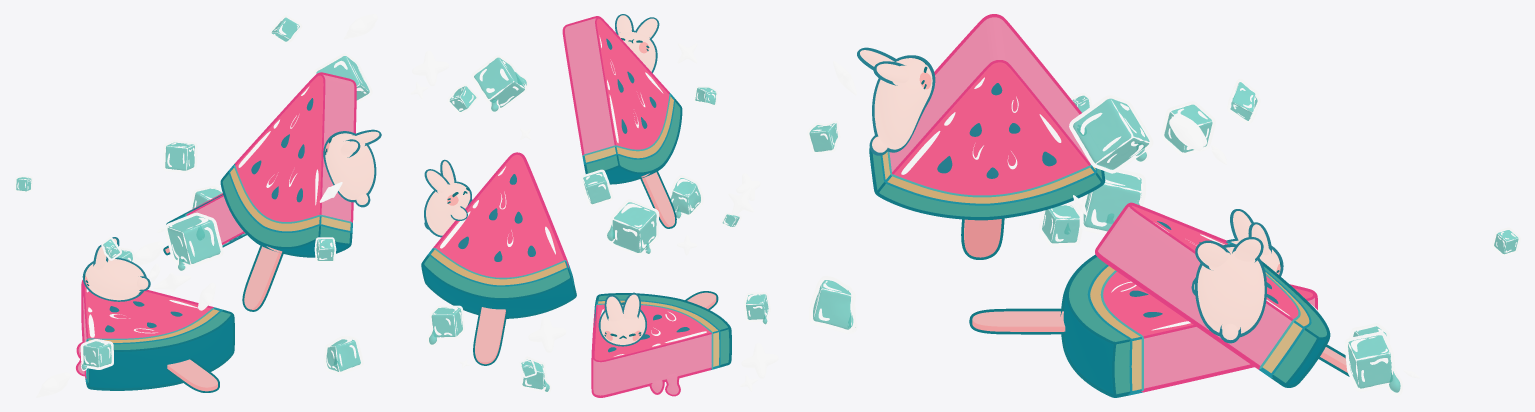
The picture shows the model from 3 angles, left to right: view 1: azimuth 30°, elevation 25°; view 2: azimuth 150°, elevation 25°; view 3: azimuth 270°, elevation 25°; orthographic projection. The views are drawn at different scales.
Parts seen in each view (by area): view 1: WatermelonWhole.002_67, WatermelonWhole_124, Bunny.002_2, Bunny_0, Icecube.001_4, Stick.002_66, Icecube.010_10, Icecube.007_8, Stick_123, Icecube.003_5, WatermelonWhole.001_95, Icecube.006_6 (+15 smaller); view 2: WatermelonWhole.001_95, WatermelonWhole.002_67, WatermelonWhole_124, Bunny.001_1, Icecube.001_4, Bunny_0, Icecube.007_8, Stick.001_94, Bunny.002_2, Icecube.011_11, Icecube.010_10, Stick.002_66 (+17 smaller); view 3: WatermelonWhole.002_67, WatermelonWhole_124, WatermelonWhole.001_95, Bunny.001_1, Bunny.002_2, Icecube.007_8, Icecube.001_4, Icecube.011_11, Stick_123, Icecube.010_10, Icecube.006_6, WatermelonWhole-OUTLINE.001_101 (+15 smaller).
Part boxes in pixels (x1,y1,x2,y2): WatermelonWhole.002_67: [222, 74, 354, 255]; WatermelonWhole_124: [83, 286, 232, 388]; Bunny.002_2: [323, 129, 381, 207]; Bunny_0: [82, 237, 150, 301]; Icecube.001_4: [164, 212, 223, 267]; Stick.002_66: [242, 245, 283, 311]; Icecube.010_10: [323, 336, 363, 375]; Icecube.007_8: [313, 53, 372, 103]; Stick_123: [166, 358, 219, 392]; Icecube.003_5: [162, 140, 197, 173]; WatermelonWhole.001_95: [188, 196, 244, 244]; Icecube.006_6: [80, 339, 113, 369]; WatermelonWhole.001_95: [423, 154, 574, 316]; WatermelonWhole.002_67: [565, 18, 680, 182]; WatermelonWhole_124: [593, 295, 729, 395]; Bunny.001_1: [424, 159, 472, 237]; Icecube.001_4: [610, 199, 659, 256]; Bunny_0: [598, 292, 646, 346]; Icecube.007_8: [471, 55, 527, 110]; Stick.001_94: [473, 307, 507, 365]; Bunny.002_2: [615, 14, 659, 73]; Icecube.011_11: [429, 305, 464, 339]; Icecube.010_10: [669, 175, 703, 217]; Stick.002_66: [639, 171, 676, 228]; WatermelonWhole.002_67: [872, 17, 1102, 216]; WatermelonWhole_124: [1063, 257, 1314, 394]; WatermelonWhole.001_95: [1098, 205, 1326, 384]; Bunny.001_1: [1191, 237, 1266, 343]; Bunny.002_2: [857, 47, 935, 155]; Icecube.007_8: [1069, 95, 1153, 173]; Icecube.001_4: [1079, 169, 1146, 235]; Icecube.011_11: [1344, 331, 1395, 391]; Stick_123: [969, 308, 1065, 334]; Icecube.010_10: [809, 275, 855, 333]; Icecube.006_6: [1038, 202, 1082, 246]; WatermelonWhole-OUTLINE.001_101: [1095, 202, 1330, 387].
Bounding box in the file's own units: 0.7478 × 0.6209 × 0.9191.
